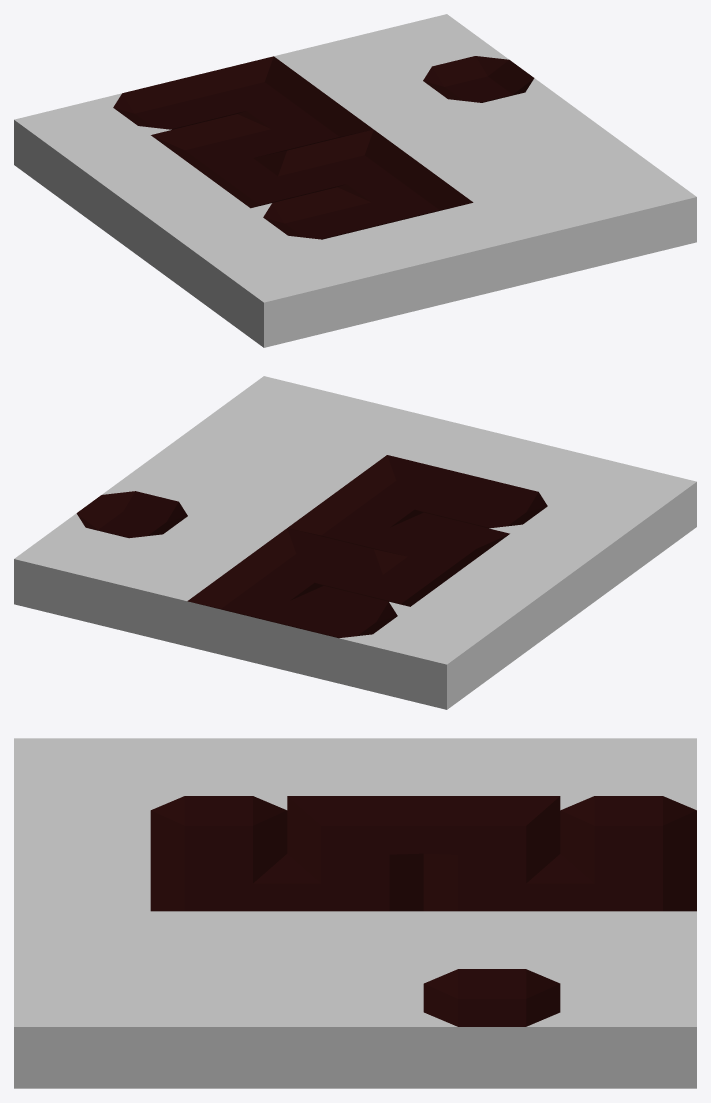
3 renders of one model, top to bottom at view 1: azimuth 30°, elevation 25°; view 2: azimuth 150°, elevation 25°; view 3: azimuth 270°, elevation 25°, orthographic. The views are drawn at different scales.
Visible parts, largest first — view 1: block.0.0_block.11221, block.3.0_block.11228, block.1.0_block.11226, block.4.0_block.11233, block.2.0_block.11227, block.0.2_block.11223, block.0.3_block.11224, block.0.4_block.11225, block.0.1_block.11222, corner.2.2_corner.3314, corner.2.4_corner.3316, corner.1.3_corner.3312 (+13 smaller); view 2: block.0.4_block.11225, block.3.4_block.11232, block.4.4_block.11237, corner.2.4_corner.3316, ending.1.4_ending.1322, block.0.0_block.11221, block.0.1_block.11222, block.0.2_block.11223, block.0.3_block.11224, corner.2.1_corner.3313, corner.2.3_corner.3315, corner.1.2_corner.3311 (+13 smaller); view 3: block.4.1_block.11234, block.4.3_Cube.025, block.4.0_block.11233, block.4.2_block.11235, block.4.4_block.11237, ending.1.1_ending.1321, corner.1.3_corner.3312, ending.1.4_ending.1322, corner.1.2_corner.3311, block.2.0_block.11227, block.0.1_block.11222, block.0.3_block.11224 (+13 smaller).
Boxes of the visible parts, left/top/right/bottom form: block.0.0_block.11221: left=214, top=245, right=350, bottom=347; block.3.0_block.11228: left=474, top=181, right=610, bottom=284; block.1.0_block.11226: left=301, top=224, right=437, bottom=326; block.4.0_block.11233: left=560, top=160, right=696, bottom=263; block.2.0_block.11227: left=387, top=202, right=523, bottom=305; block.0.2_block.11223: left=114, top=172, right=249, bottom=274; block.0.3_block.11224: left=64, top=135, right=200, bottom=237; block.0.4_block.11225: left=14, top=98, right=149, bottom=201; block.0.1_block.11222: left=164, top=208, right=299, bottom=310; corner.2.2_corner.3314: left=287, top=129, right=423, bottom=192; corner.2.4_corner.3316: left=187, top=56, right=323, bottom=119; corner.1.3_corner.3312: left=151, top=114, right=286, bottom=177; block.0.4_block.11225: left=360, top=607, right=496, bottom=709; block.3.4_block.11232: left=100, top=543, right=236, bottom=646; block.4.4_block.11237: left=14, top=522, right=150, bottom=625; corner.2.4_corner.3316: left=187, top=565, right=323, bottom=667; ending.1.4_ending.1322: left=273, top=586, right=409, bottom=688; block.0.0_block.11221: left=561, top=460, right=696, bottom=563; block.0.1_block.11222: left=510, top=497, right=646, bottom=599; block.0.2_block.11223: left=461, top=534, right=596, bottom=636; block.0.3_block.11224: left=411, top=570, right=546, bottom=672; corner.2.1_corner.3313: left=337, top=455, right=473, bottom=518; corner.2.3_corner.3315: left=237, top=528, right=373, bottom=591; corner.1.2_corner.3311: left=374, top=512, right=509, bottom=576; block.4.1_block.11234: left=150, top=969, right=287, bottom=1088; block.4.3_Cube.025: left=423, top=969, right=560, bottom=1088; block.4.0_block.11233: left=14, top=969, right=150, bottom=1088; block.4.2_block.11235: left=287, top=969, right=423, bottom=1088; block.4.4_block.11237: left=560, top=969, right=696, bottom=1088; ending.1.1_ending.1321: left=150, top=796, right=287, bottom=868; corner.1.3_corner.3312: left=423, top=796, right=560, bottom=868; ending.1.4_ending.1322: left=560, top=796, right=696, bottom=868; corner.1.2_corner.3311: left=287, top=796, right=423, bottom=868; block.2.0_block.11227: left=14, top=853, right=150, bottom=911; block.0.1_block.11222: left=150, top=738, right=287, bottom=795; block.0.3_block.11224: left=423, top=738, right=560, bottom=795.
Size of the model in its own units: 10 by 1 by 10.
